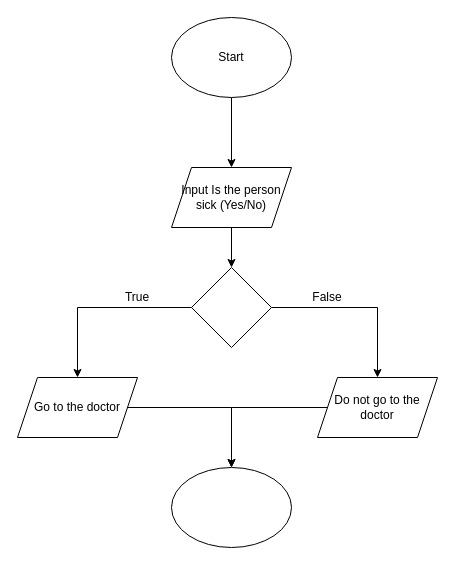
Some shapes in this 455 by 565 pixel diagram are drawn without their labels. The box of each missing label's shape, as (x1, y1, x2, y2) in pixels:
Are they sick (True/False): (190, 266, 272, 348)
Stop: (170, 466, 292, 548)
